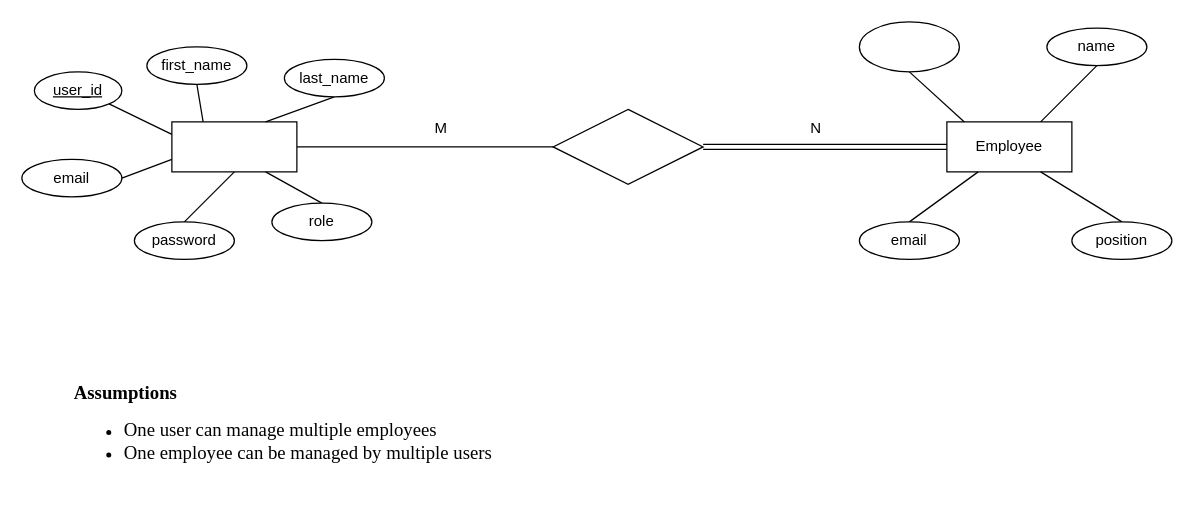
Image size: 1194x531. Some labels were removed from this diagram. Each missing label, with the centre of its shape:
employee_id: the point at 908,46
manages: the point at 627,146
User: the point at 234,146
